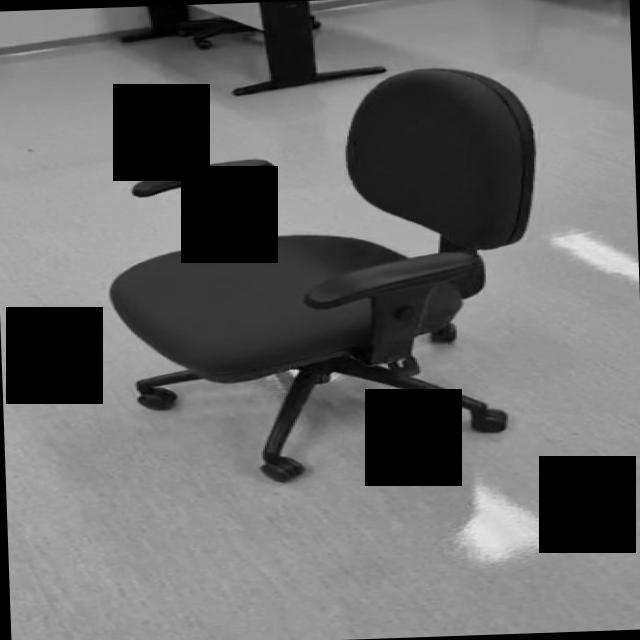chair: (102, 64, 550, 489)
